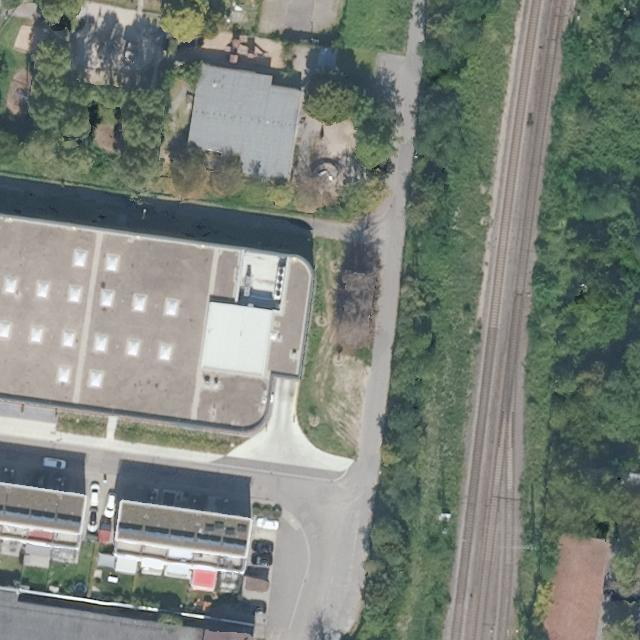PV: (115, 521, 248, 551), (1, 502, 84, 526)
